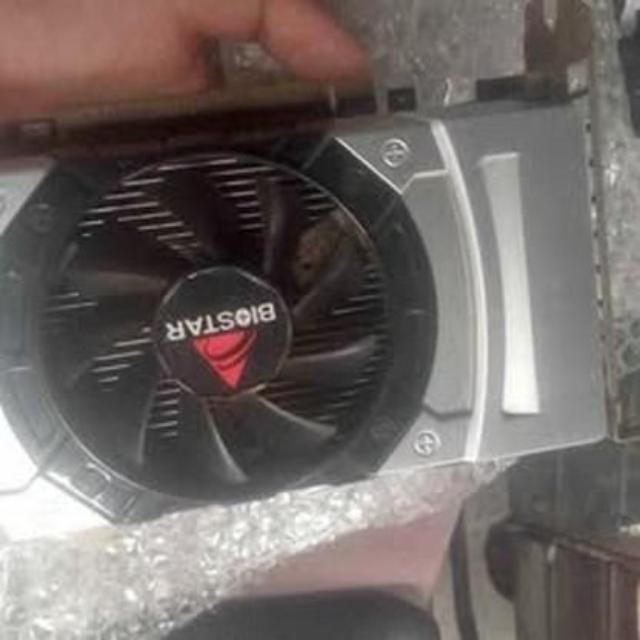GPU: (0, 64, 618, 541)
